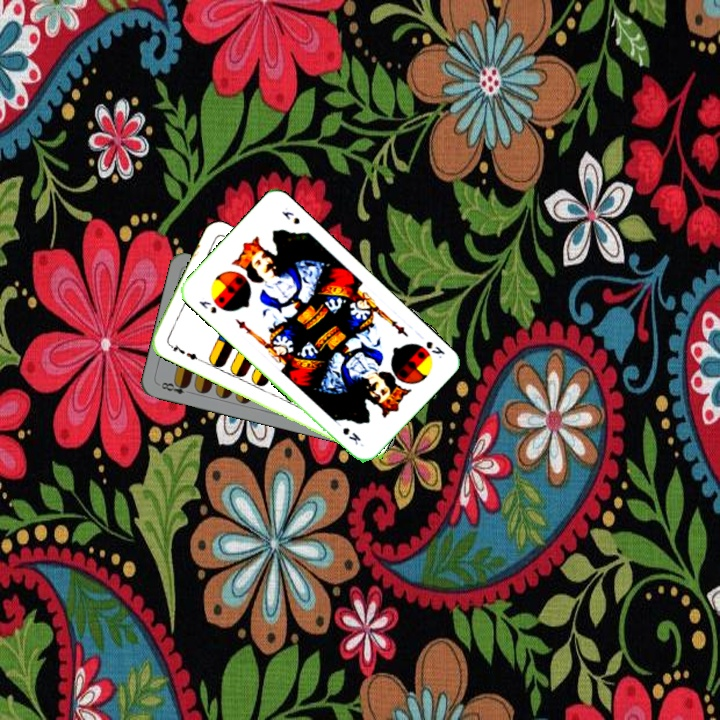E7: (164, 339, 202, 363)
E8: (155, 378, 195, 397)
SK: (422, 337, 447, 361), (195, 297, 219, 316)
